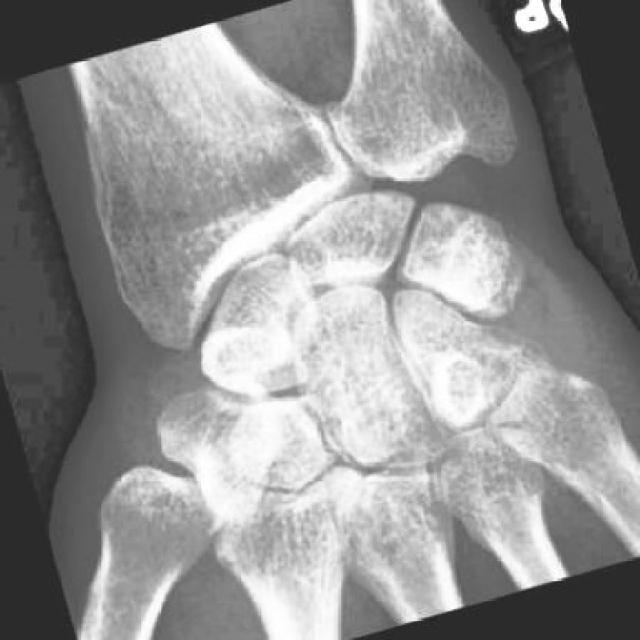Fracture: (429, 317, 563, 443)
